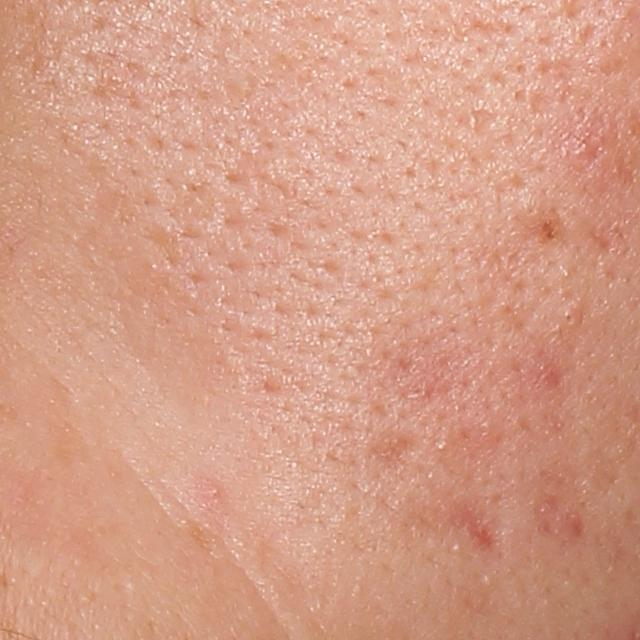atrophic_scar: (447, 495, 513, 557), (359, 428, 422, 470)
comedo: (560, 305, 582, 328)
